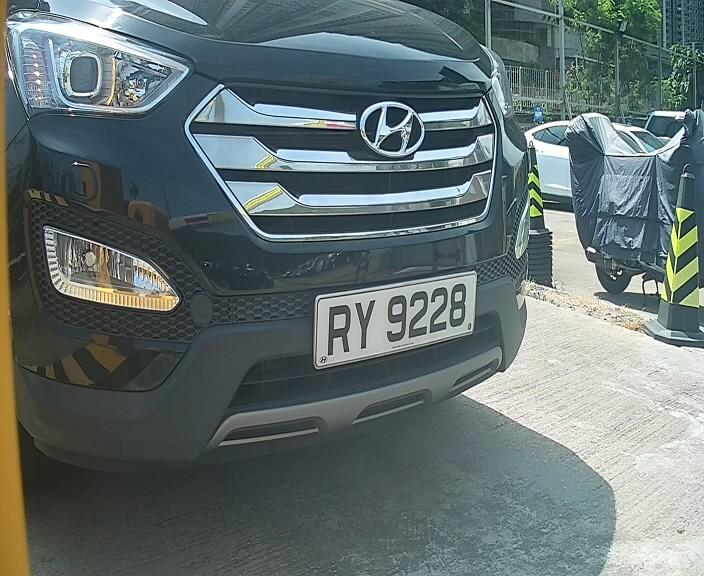License Plate: (312, 271, 472, 371)
